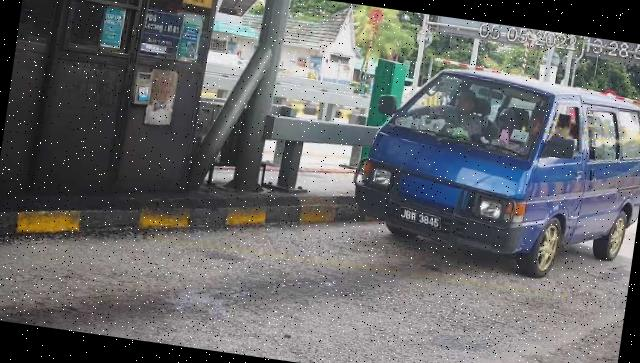License_Plate: (398, 206, 445, 233)
van: (344, 55, 640, 291)
